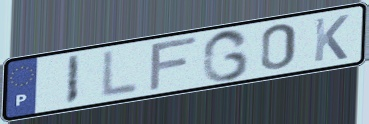0: (259, 21, 300, 73)
F: (146, 34, 201, 94)
G: (200, 27, 251, 84)
I: (63, 52, 83, 107)
K: (311, 12, 352, 64)
L: (98, 47, 142, 101)
